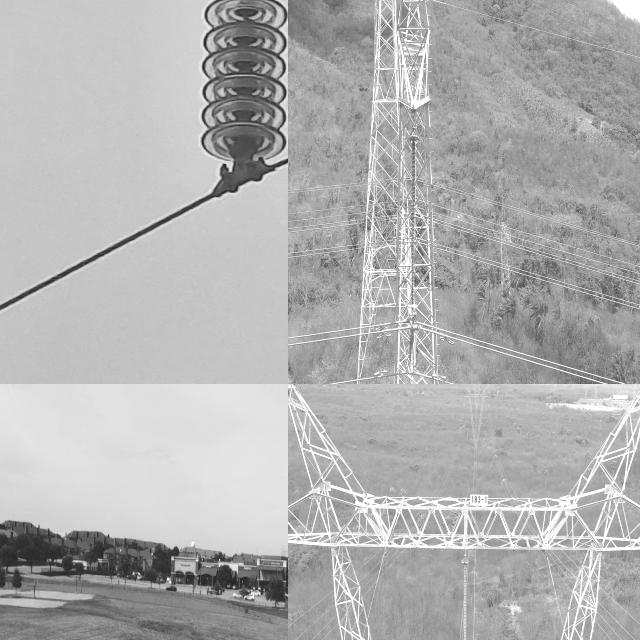杆塔: (288, 384, 640, 640), (352, 0, 431, 384), (393, 0, 460, 384)
正常电缆: (0, 143, 288, 334), (288, 591, 331, 631), (290, 605, 333, 640), (604, 589, 640, 628), (602, 604, 640, 640), (308, 615, 336, 640), (601, 615, 625, 640), (319, 625, 337, 640)
正常绝缘子: (199, 0, 288, 184), (408, 132, 420, 313), (461, 556, 470, 640)
